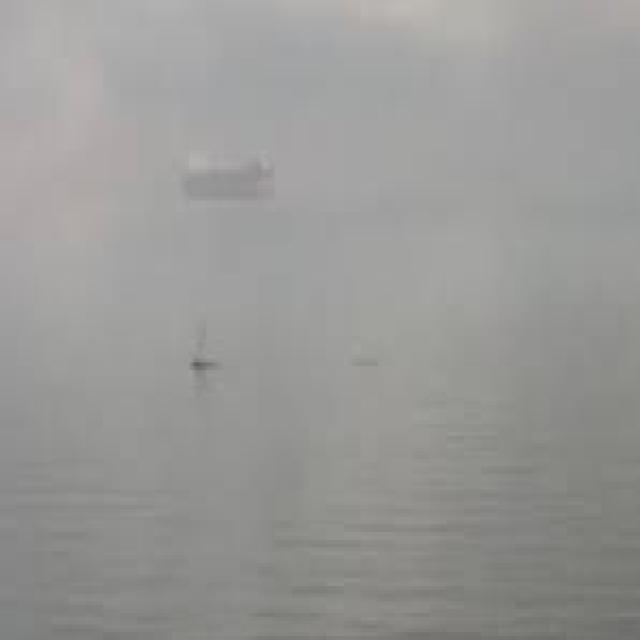cargoship: (175, 145, 278, 197)
